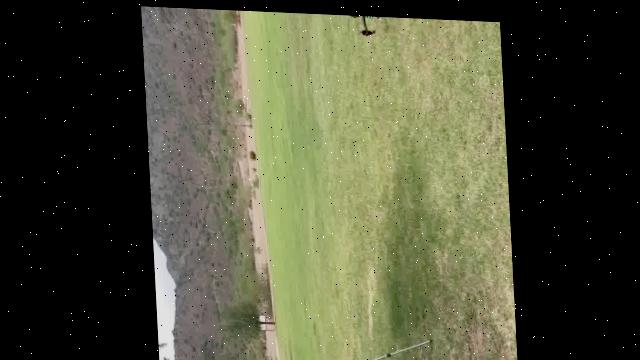drone: (299, 10, 439, 85)
